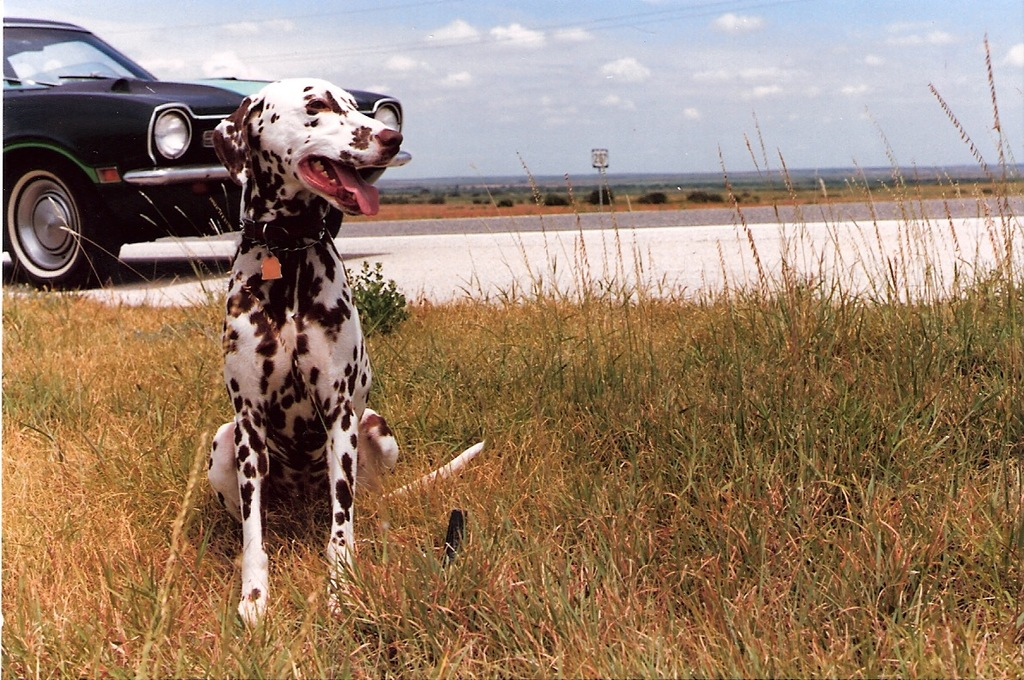Car: (0, 12, 274, 293)
